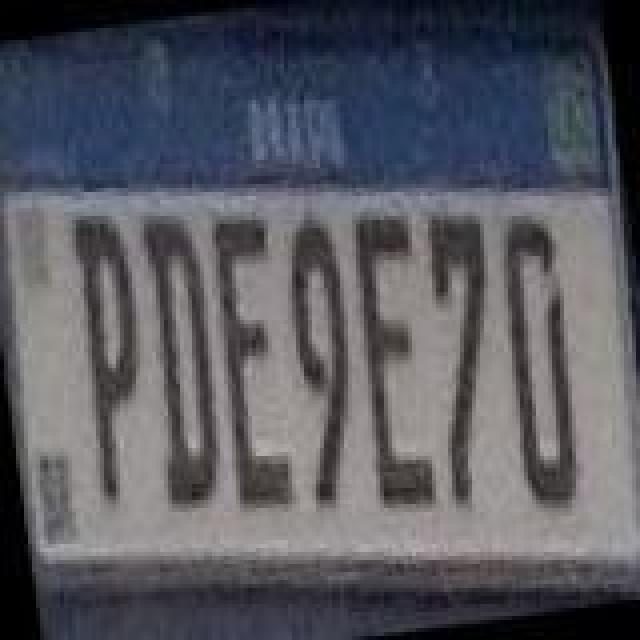7: (408, 200, 520, 512)
9: (276, 212, 372, 516)
D: (128, 204, 240, 516), (486, 204, 594, 516)
E: (336, 204, 448, 516), (194, 210, 302, 518)
P: (60, 208, 164, 512)
